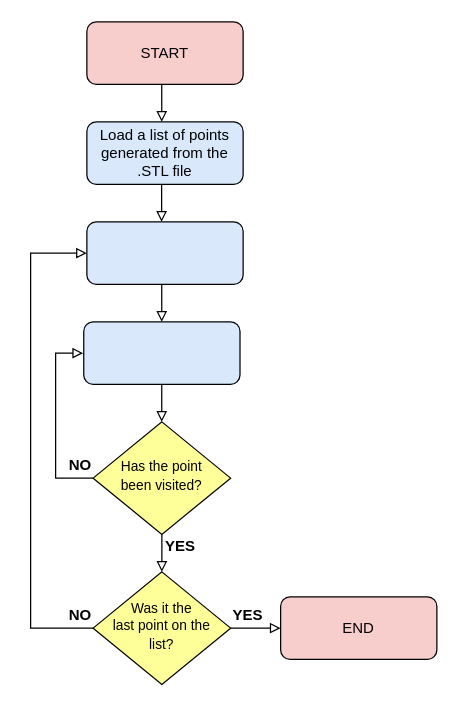
The diagram is 459 pixels wide and 706 high, and some of its shapes have lost their labels. The centre of each missing label's shape, as x and y in pixels:
Load the next point in the list: the point at 164,252
Send the point to the local planner: the point at 161,352
